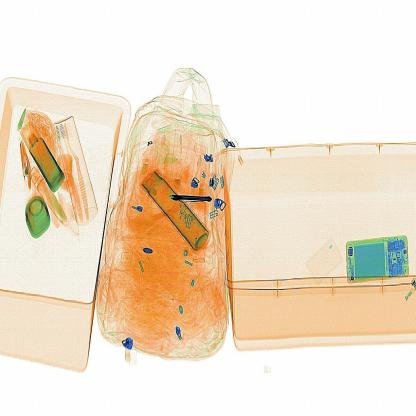knife: (167, 186, 219, 209)
